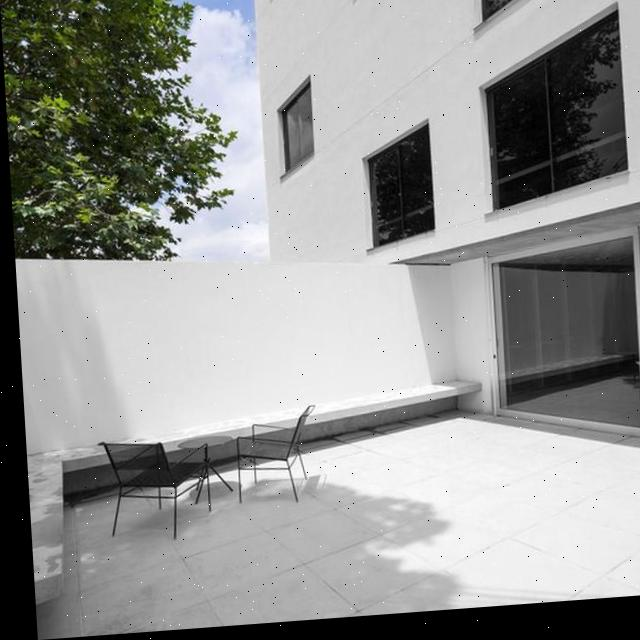building: (253, 0, 640, 467)
